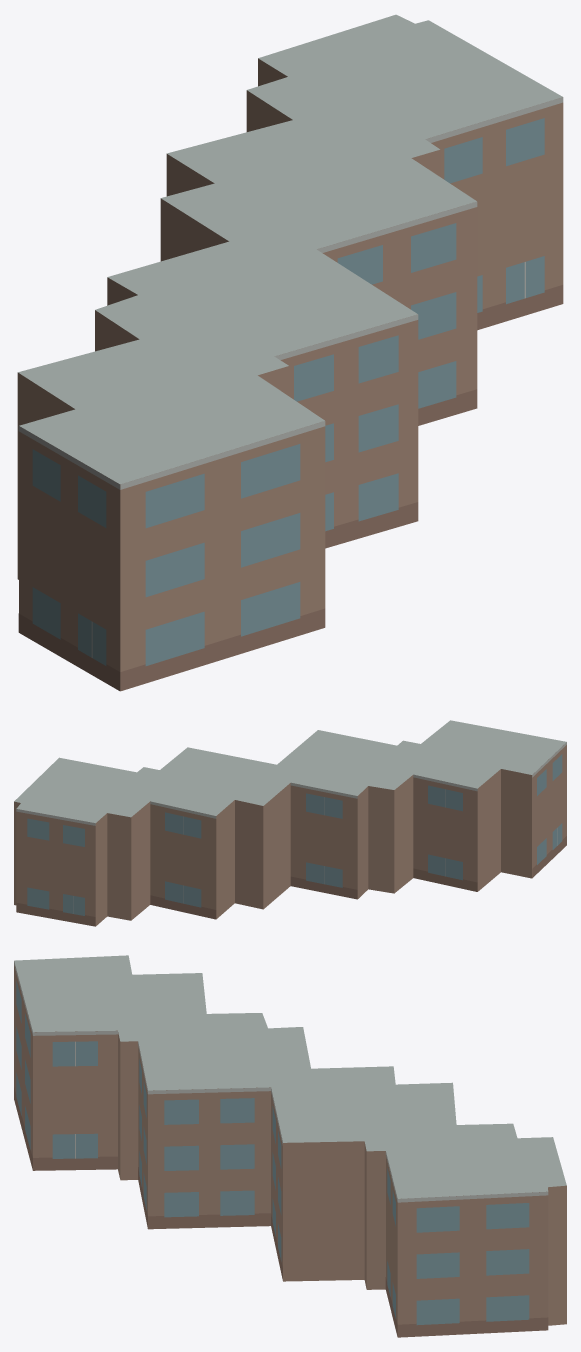
File: survey-upis-32564411.glb
3 views of the same model, one above another, from view 1: azimuth 30°, elevation 25°; view 2: azimuth 150°, elevation 25°; view 3: azimuth 270°, elevation 25° (orthographic). The views are drawn at different scales.
Visible parts, largest first — view 1: survey-upis-32564411.tmp; view 2: survey-upis-32564411.tmp; view 3: survey-upis-32564411.tmp.
Boxes of the visible parts, x1,y1,x2,y2 form: survey-upis-32564411.tmp: [17, 14, 563, 691]; survey-upis-32564411.tmp: [14, 720, 566, 926]; survey-upis-32564411.tmp: [14, 955, 566, 1337].
Size of the model in its own units: 34.49 by 9.15 by 33.08.
